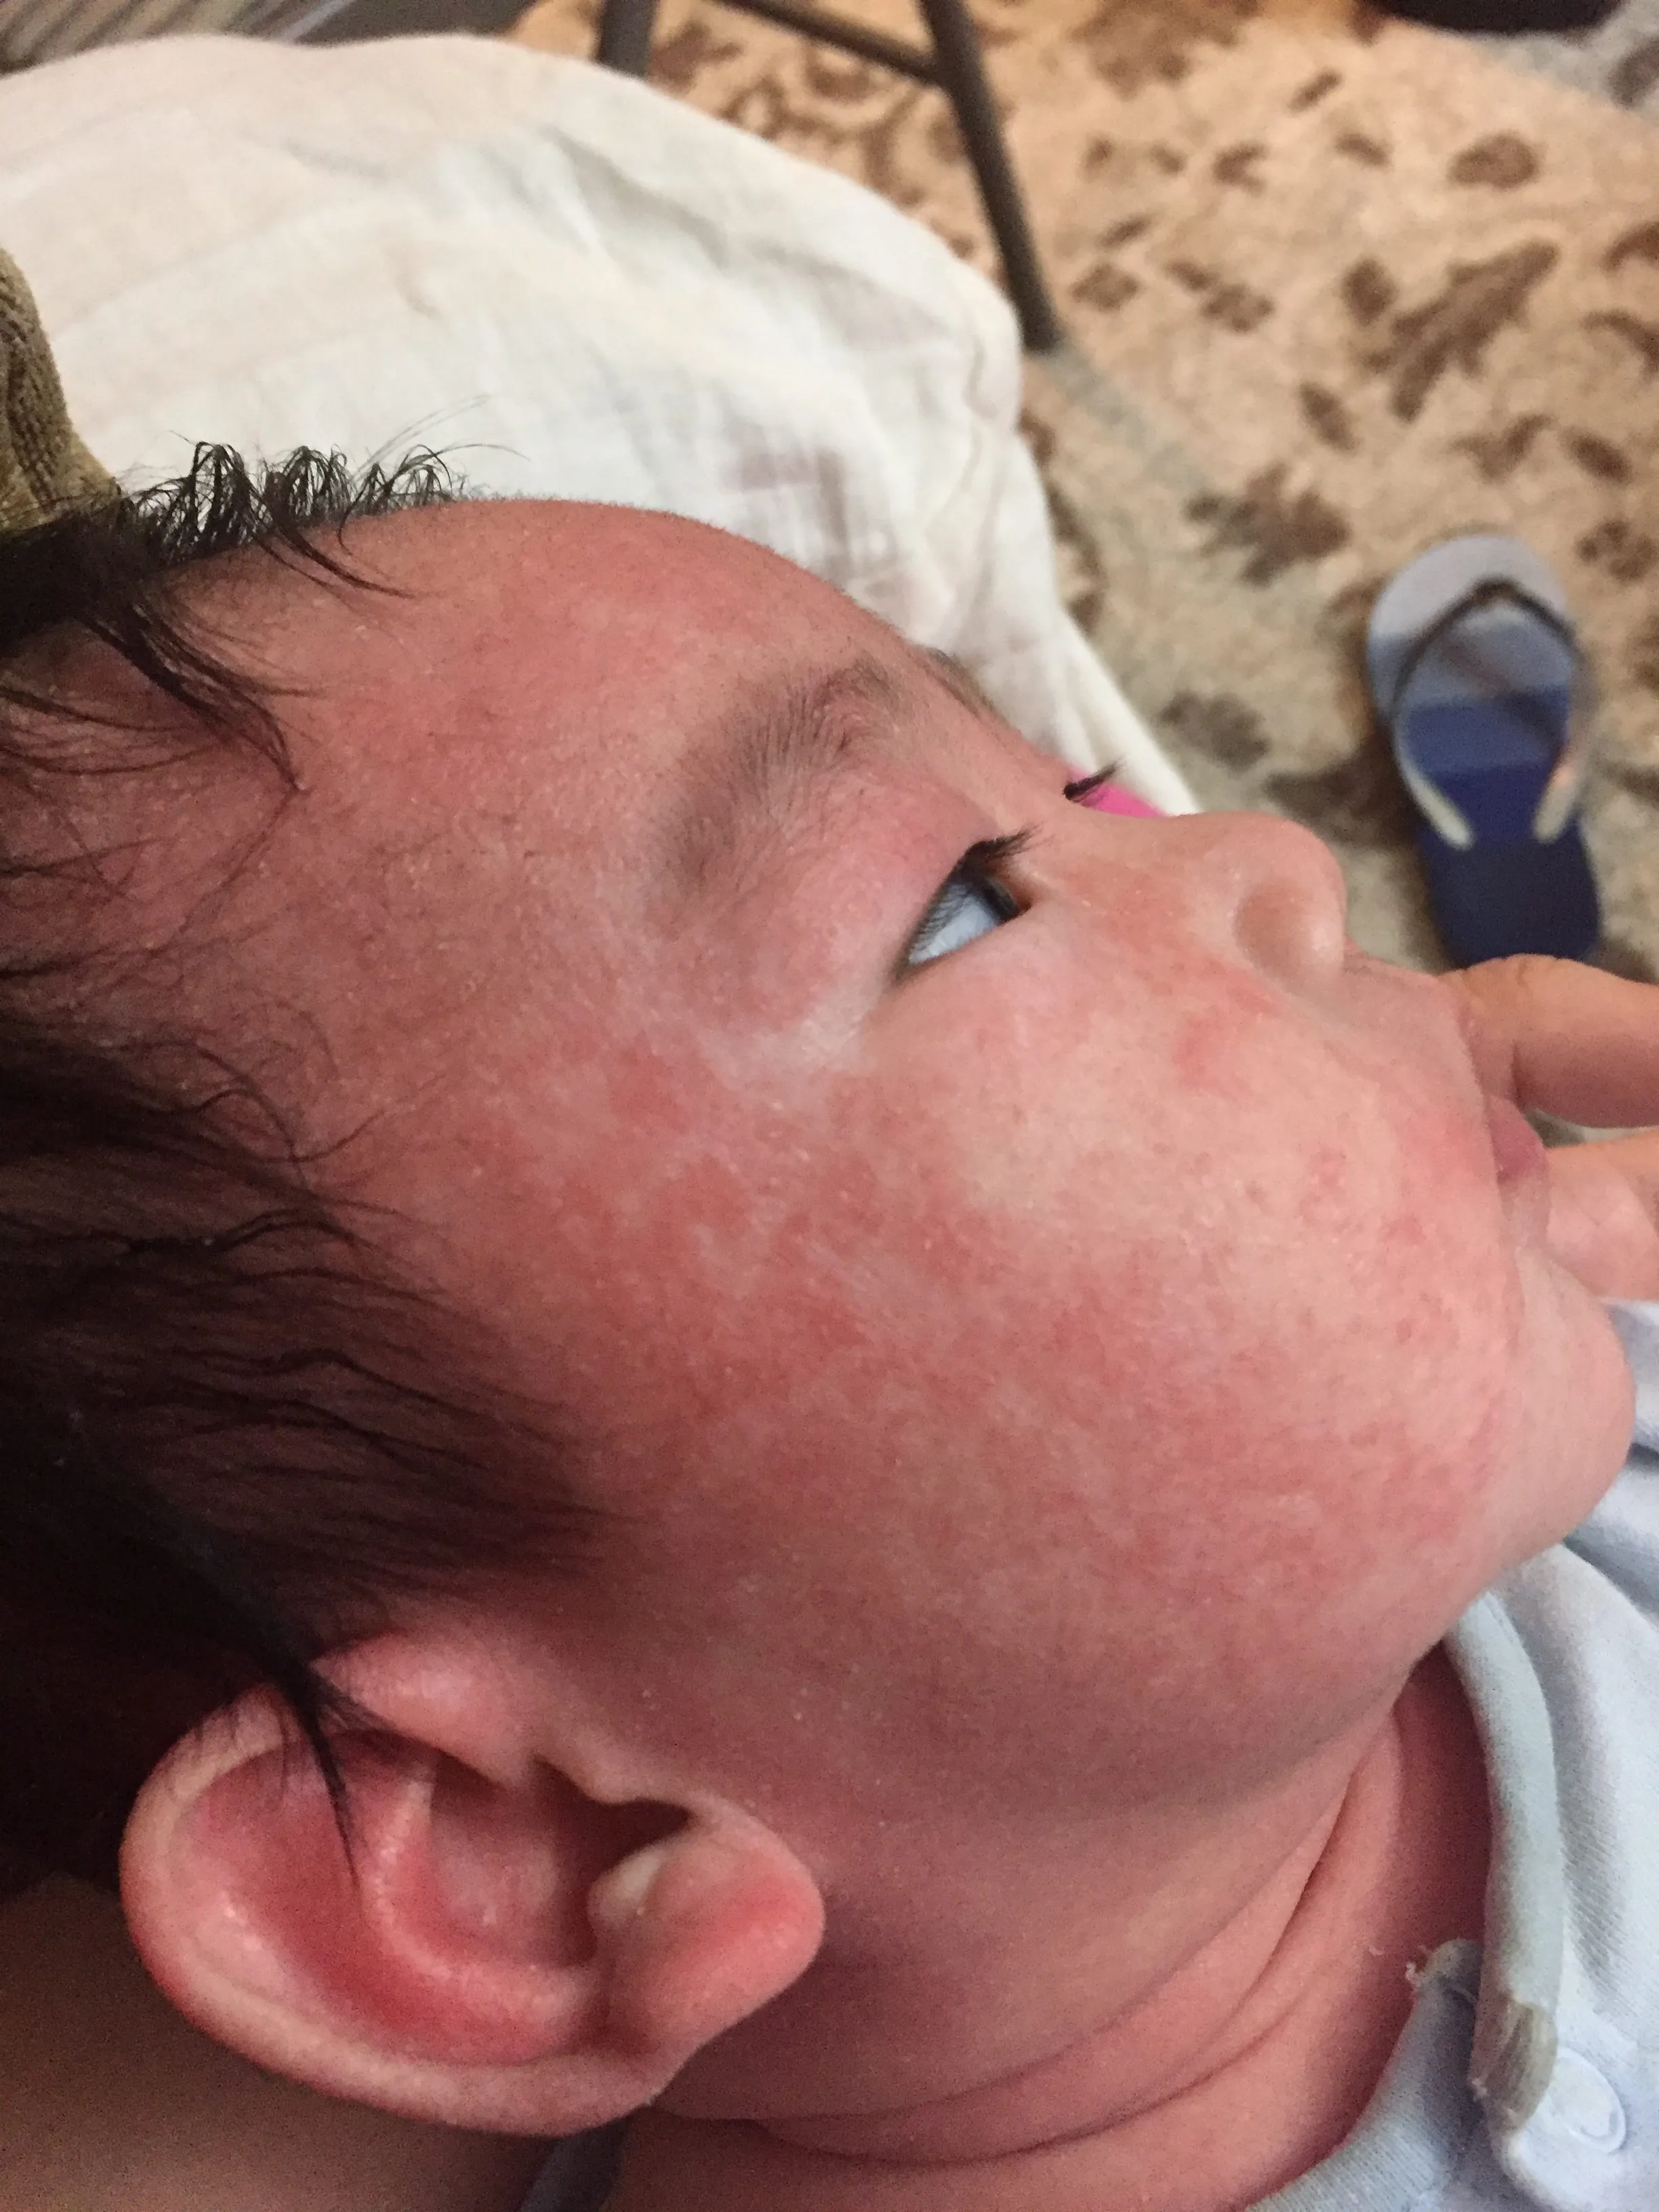Eksim: (319, 1033, 1529, 1746)
